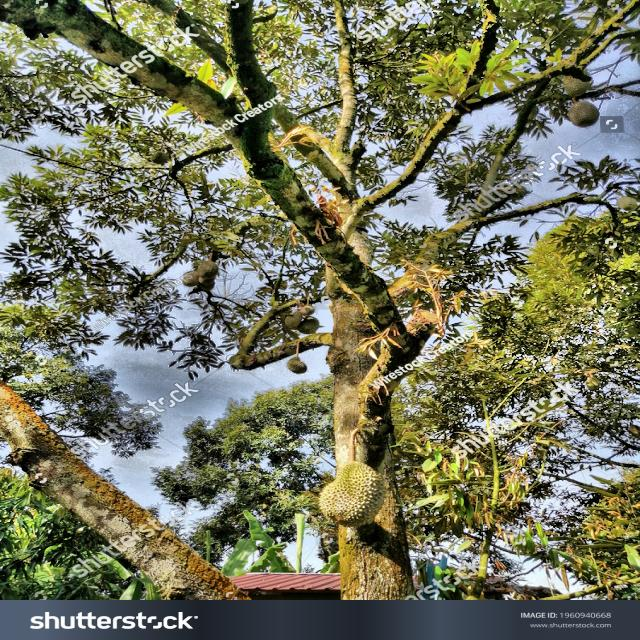arvore: (276, 166, 455, 598)
